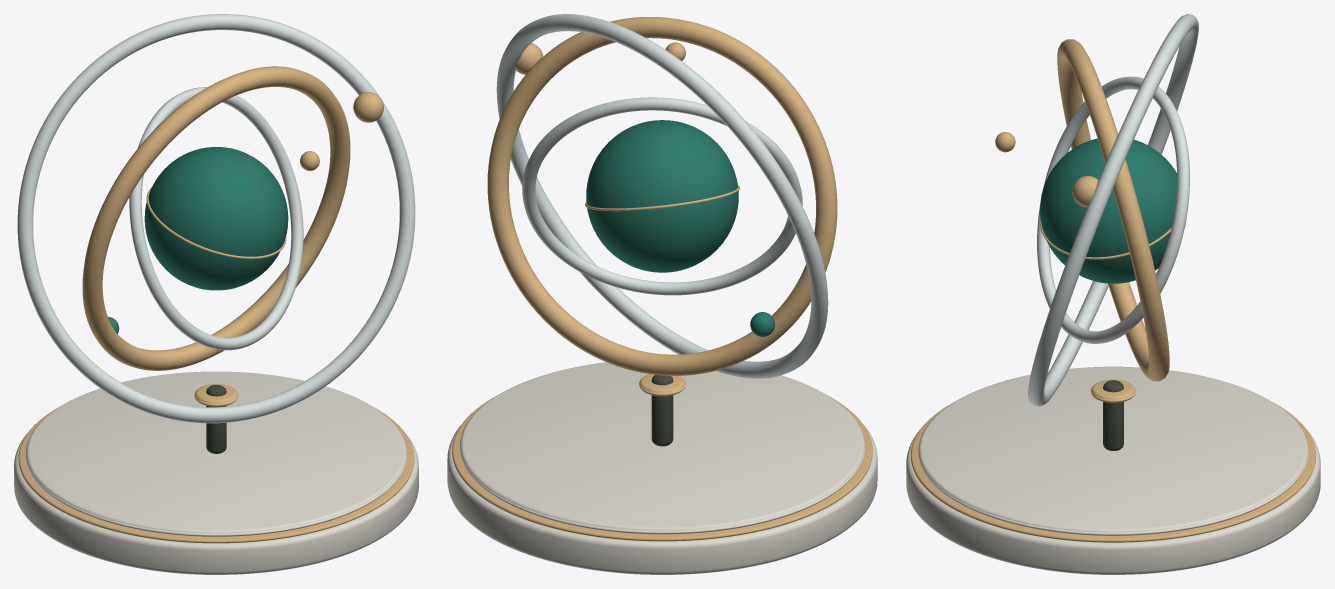
Rendered from orbit.glb.
3 views of the same model, side by side, from view 1: azimuth 30°, elevation 25°; view 2: azimuth 150°, elevation 25°; view 3: azimuth 270°, elevation 25° (orthographic). The views are drawn at different scales.
Parts seen in each view (by area): view 1: Plinth_cap, Orbit_outer, Orbit_middle, Core, Plinth, Orbit_inner, Plinth_inlay, Spindle, Satellite_0, Spindle_collar, Core_equator; view 2: Plinth_cap, Orbit_middle, Core, Orbit_outer, Plinth, Orbit_inner, Plinth_inlay, Spindle, Spindle_collar; view 3: Plinth_cap, Plinth, Orbit_outer, Core, Orbit_middle, Orbit_inner, Plinth_inlay, Spindle, Spindle_collar, Satellite_0.
Boxes of the visible parts, x1,y1,x2,y2 form: Plinth_cap: [26, 371, 406, 536]; Orbit_outer: [17, 14, 415, 423]; Orbit_middle: [82, 66, 350, 370]; Core: [144, 147, 288, 290]; Plinth: [14, 434, 418, 574]; Orbit_inner: [129, 87, 303, 350]; Plinth_inlay: [18, 406, 414, 543]; Spindle: [206, 385, 226, 453]; Satellite_0: [353, 92, 383, 122]; Spindle_collar: [194, 384, 238, 406]; Core_equator: [146, 187, 286, 259]; Plinth_cap: [460, 362, 864, 534]; Orbit_middle: [487, 17, 837, 375]; Core: [586, 120, 738, 272]; Orbit_outer: [496, 14, 828, 378]; Plinth: [447, 425, 877, 574]; Orbit_inner: [522, 97, 802, 295]; Plinth_inlay: [452, 395, 872, 541]; Spindle: [651, 375, 673, 446]; Spindle_collar: [639, 374, 685, 396]; Plinth_cap: [918, 366, 1308, 535]; Plinth: [906, 430, 1320, 574]; Orbit_outer: [1028, 14, 1198, 406]; Core: [1040, 138, 1186, 283]; Orbit_middle: [1057, 39, 1169, 381]; Orbit_inner: [1037, 76, 1189, 343]; Plinth_inlay: [911, 403, 1315, 542]; Spindle: [1103, 380, 1123, 450]; Spindle_collar: [1091, 379, 1135, 402]; Satellite_0: [1072, 176, 1098, 207].
Size of the model in its own units: 2.76 by 3.39 by 2.76.
